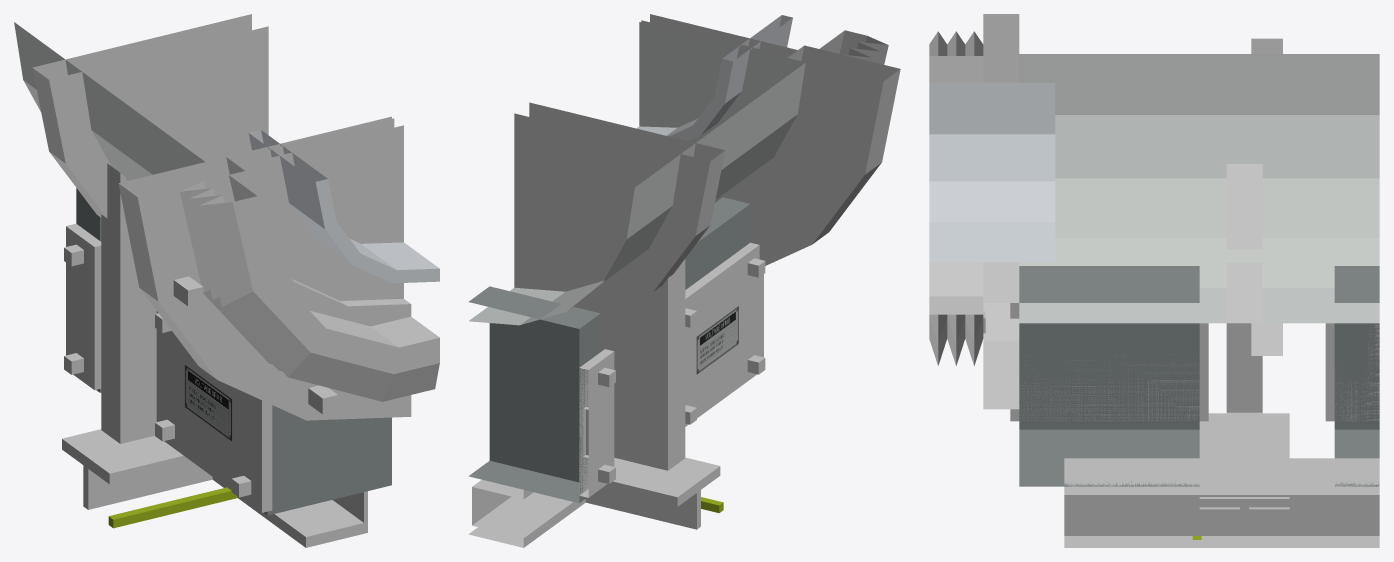
The model's file is cell_65.obj.
3 renders of one model, left to right at view 1: azimuth 30°, elevation 25°; view 2: azimuth 150°, elevation 25°; view 3: azimuth 270°, elevation 25°, orthographic. The views are drawn at different scales.
Bounding box in the file's own units: 0.66 × 1 × 1.
